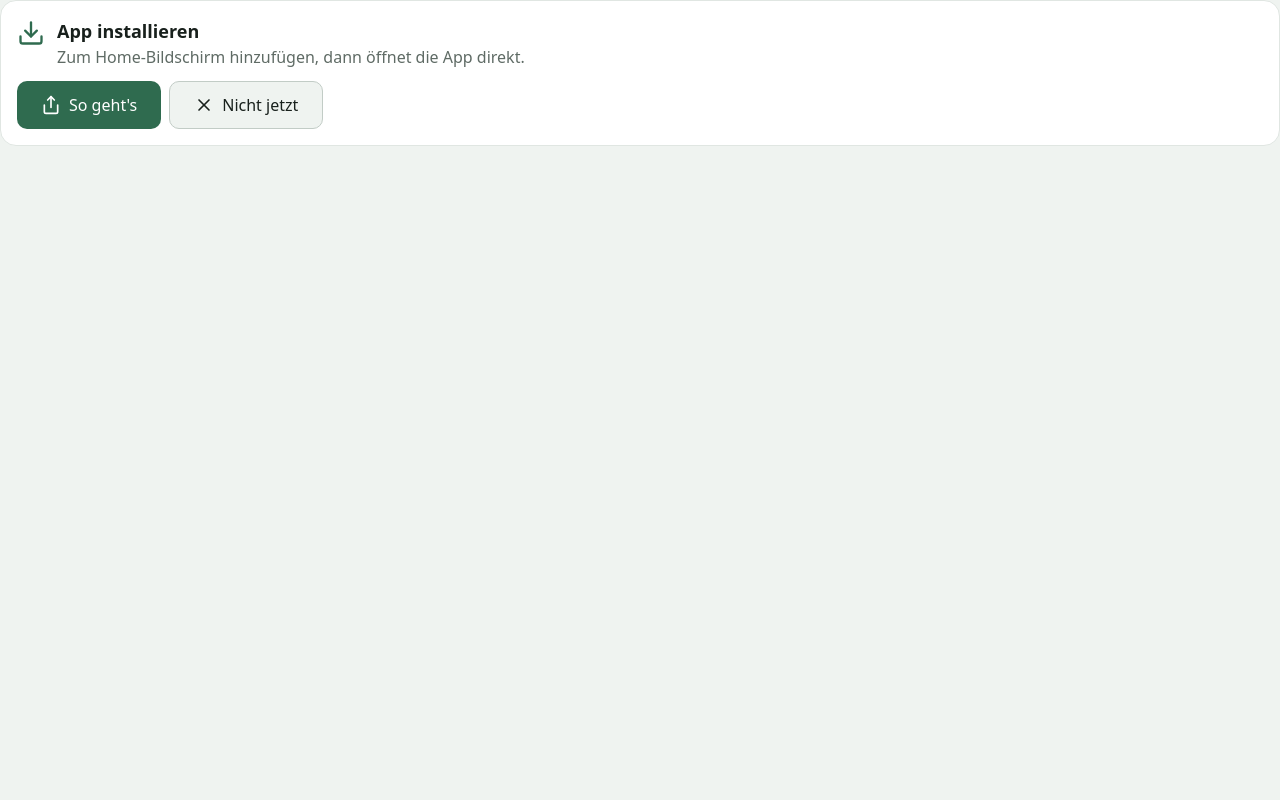
Test: InstallHint (de) › iOS: shows the hint, the overlay explains Share -> Add to Home Screen
Step 1. Click the button with test id "install-how" → (89, 105), box top-left (17, 81), bottom-right (161, 129)
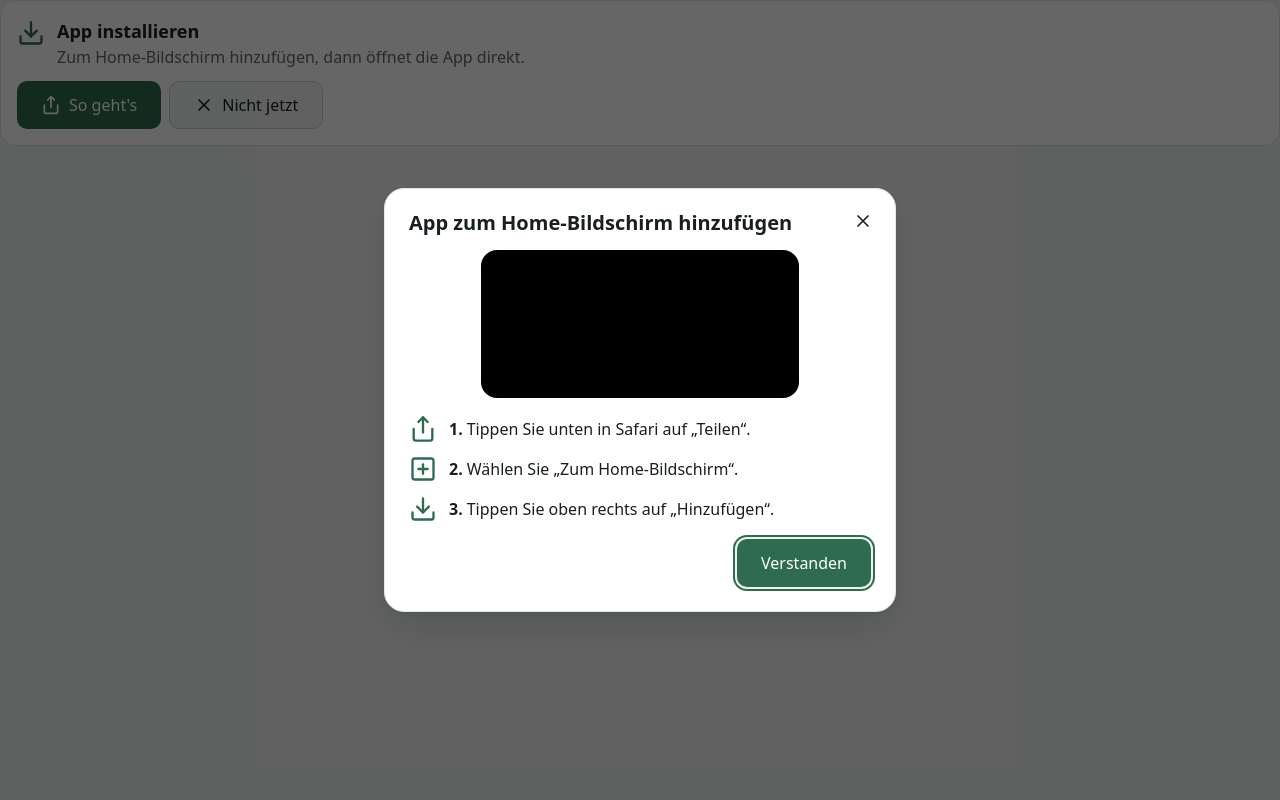
Expected: the dialog with test id "install-overlay" is shown, top-left (384, 188), bottom-right (896, 612)
Expected: the picture with test id "install-illustration" is shown, top-left (480, 249), bottom-right (800, 399)
Expected: the number of list items is 3, top-left (409, 415), bottom-right (751, 443); top-left (409, 455), bottom-right (738, 483); top-left (409, 495), bottom-right (774, 523)
